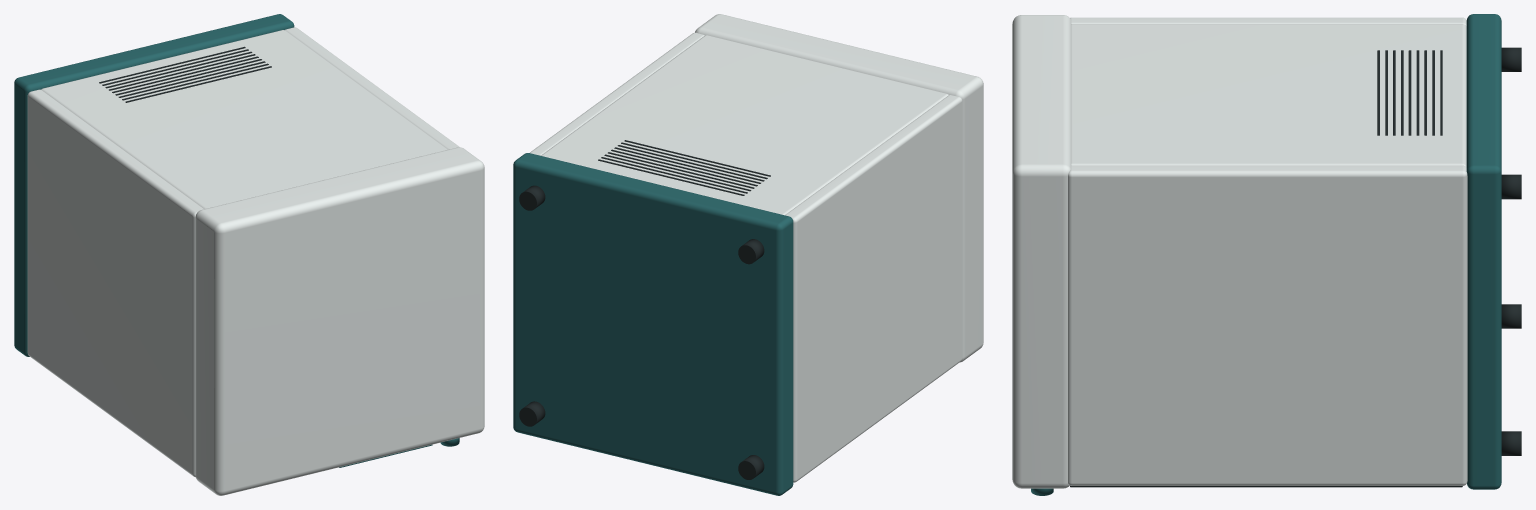
The picture shows the model from 3 angles, left to right: view 1: azimuth 30°, elevation 25°; view 2: azimuth 150°, elevation 25°; view 3: azimuth 270°, elevation 25°; orthographic projection. The views are drawn at different scales.
Parts seen in each view (by area): view 1: control_header, left_wall, rear_wall, base_plinth, right_wall; view 2: base_plinth, left_wall, rear_wall, control_header, right_wall; view 3: right_wall, rear_wall, control_header, base_plinth, left_wall, gasket_right.
Boxes of the visible parts, x1,y1,x2,y2 form: control_header: (195,147,484,495); left_wall: (27,89,203,477); rear_wall: (41,30,447,208); base_plinth: (14,14,294,356); right_wall: (285,27,459,149); base_plinth: (513,153,793,495); left_wall: (785,95,962,482); rear_wall: (541,35,948,215); control_header: (695,14,983,362); right_wall: (530,32,704,155); right_wall: (1068,165,1467,485); rear_wall: (1071,24,1466,167); control_header: (1012,15,1071,488); base_plinth: (1466,14,1501,489); left_wall: (1070,17,1466,26); gasket_right: (1070,485,1462,487).
Size of the model in its own units: 0.426 by 0.4275 by 0.5845.
